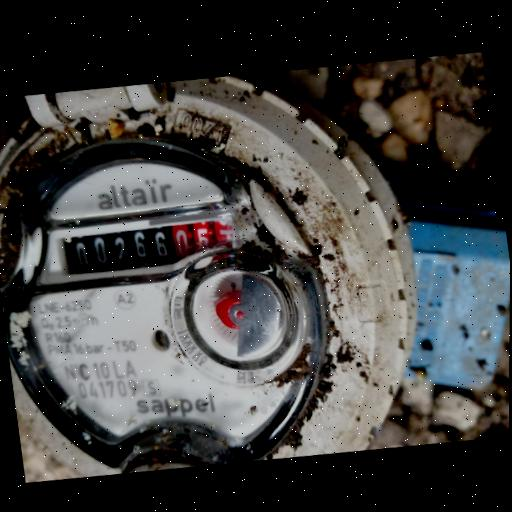0: (71, 235, 93, 274), (90, 233, 111, 273), (172, 224, 193, 263)
2: (110, 231, 131, 271)
5: (191, 221, 212, 256)
6: (150, 226, 172, 266), (131, 229, 152, 269)
7: (214, 218, 235, 251)
border_water_meter_number: (30, 201, 243, 296)
